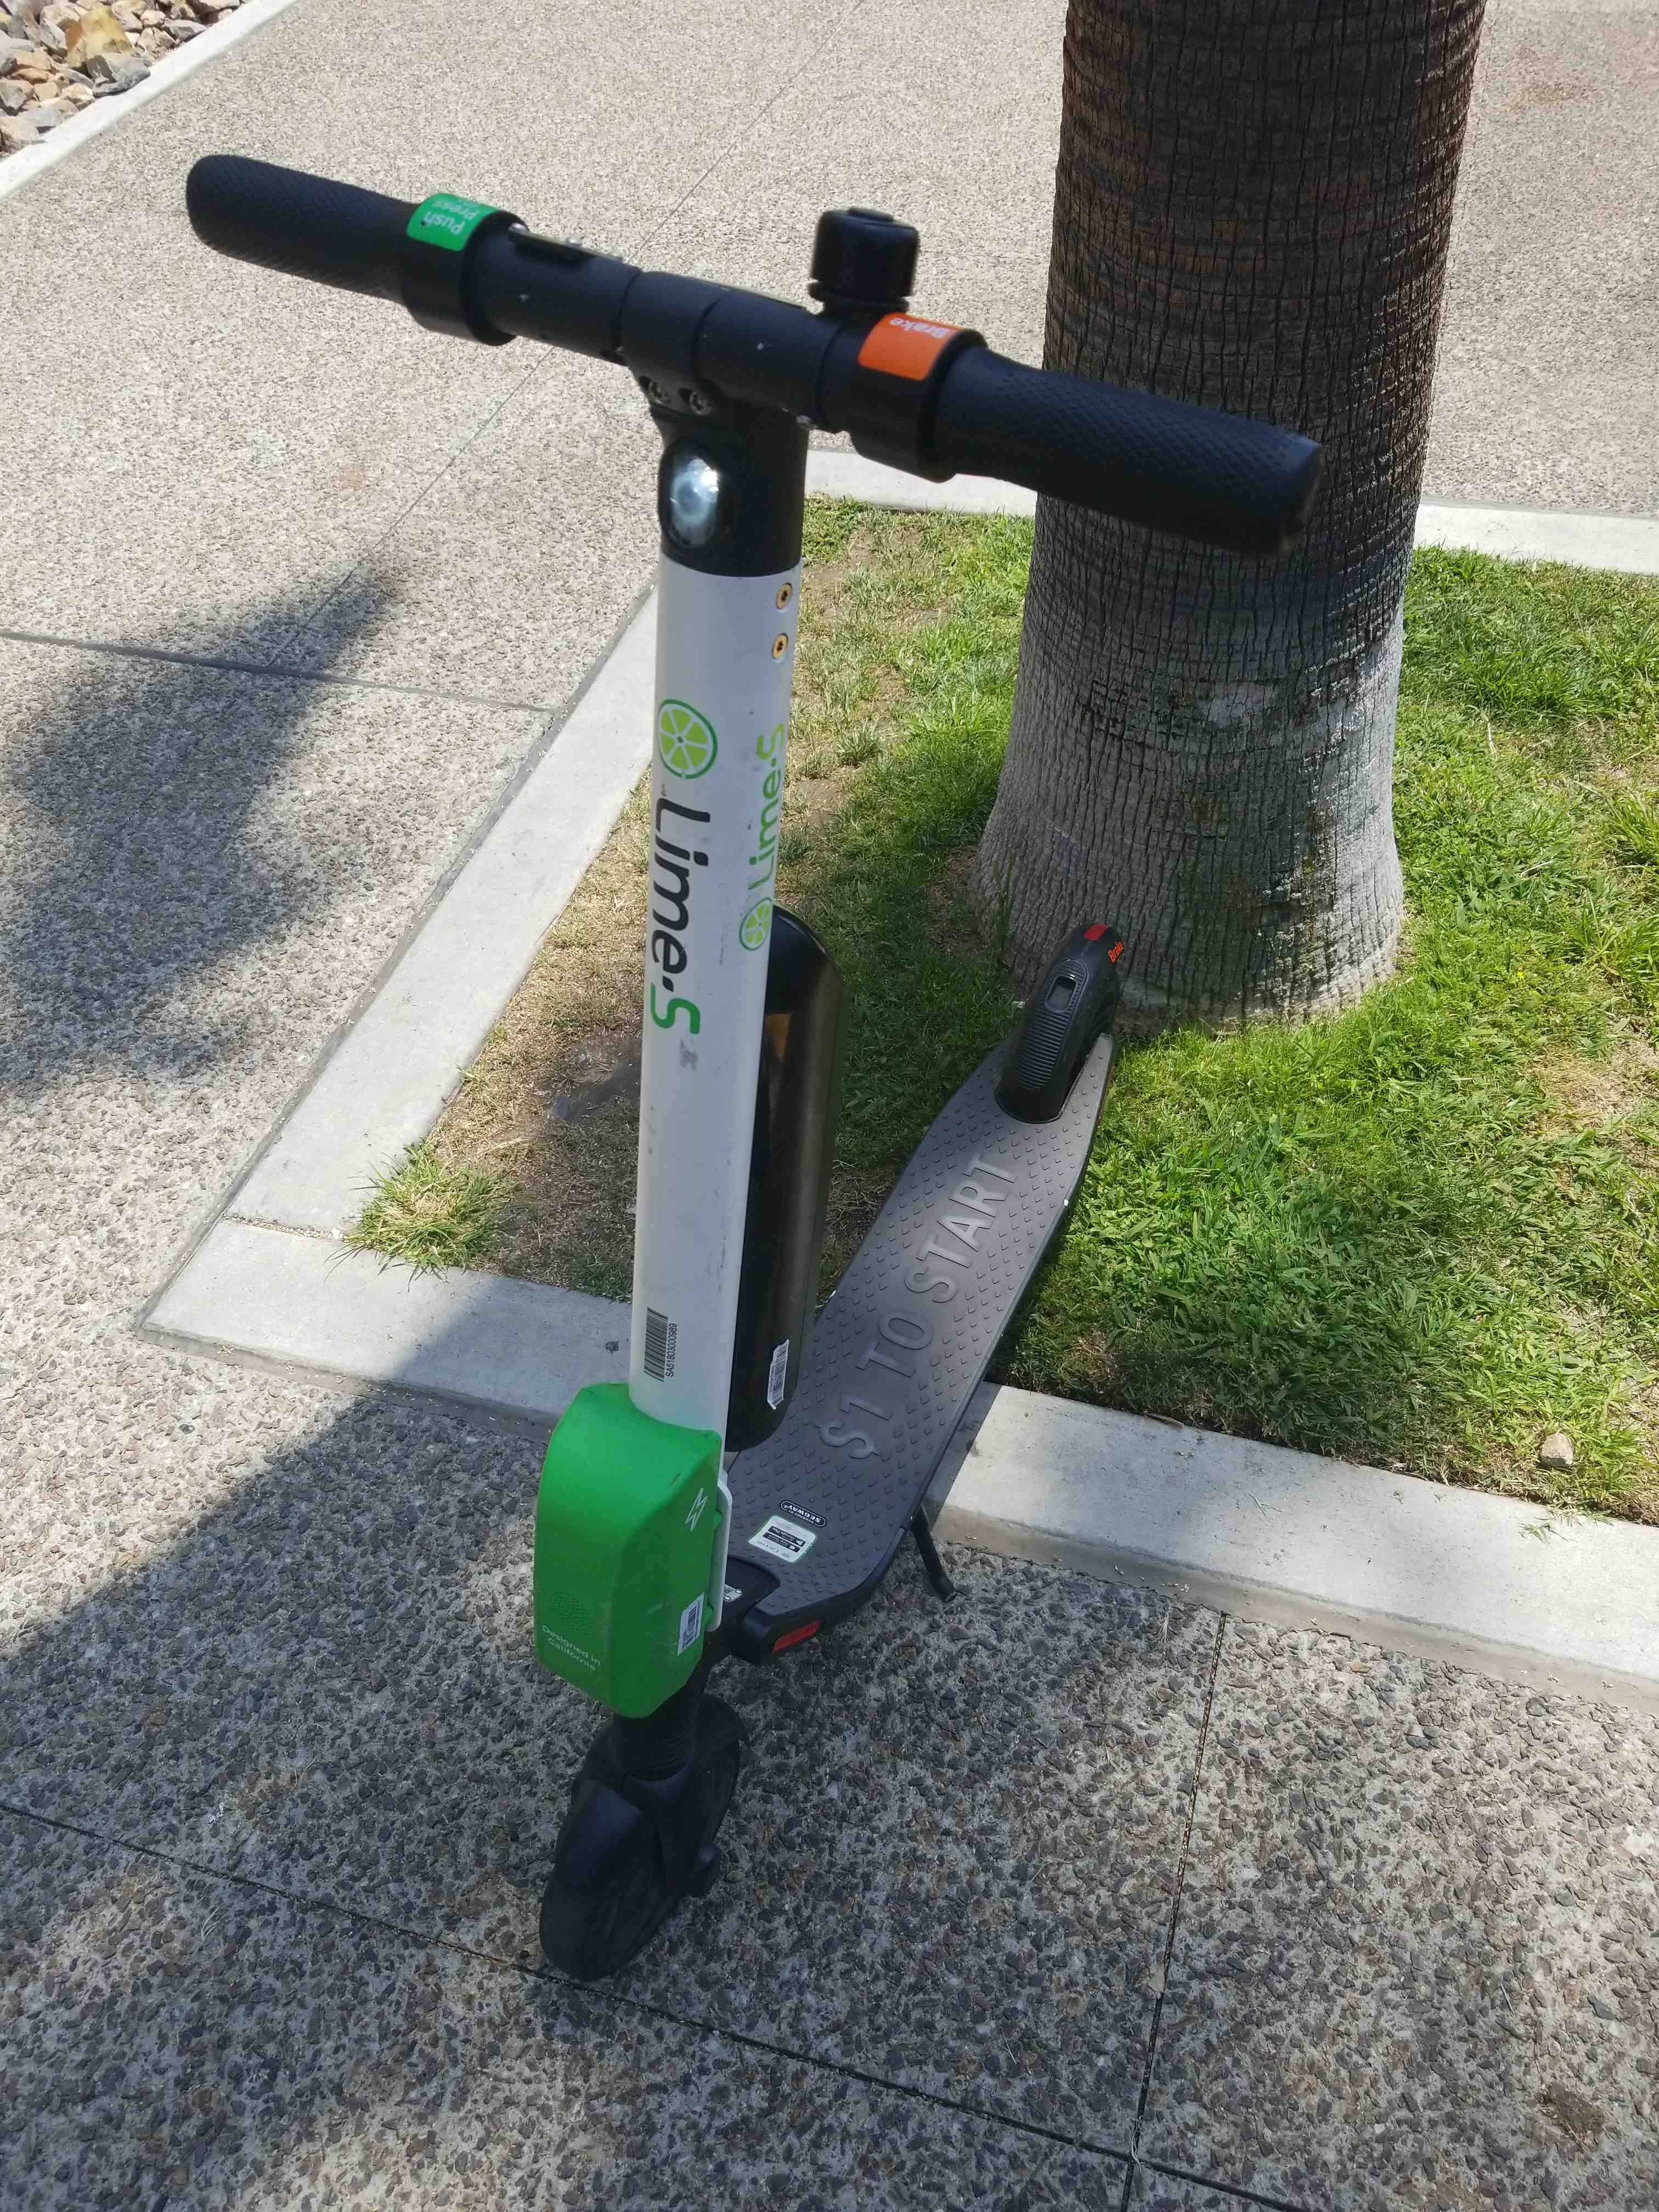scooter: (139, 141, 1304, 2102)
